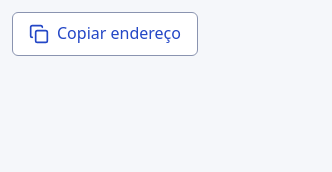
Test: CopyButton › sem área de transferência avisa que não foi possível copiar
Click the button "Copiar endereço" at [105, 34], box [12,12,198,56]
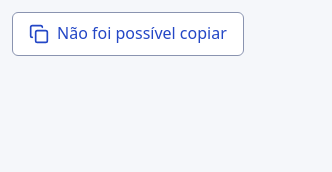
Now the button "Não foi possível copiar" is shown, box [12,12,244,56]
